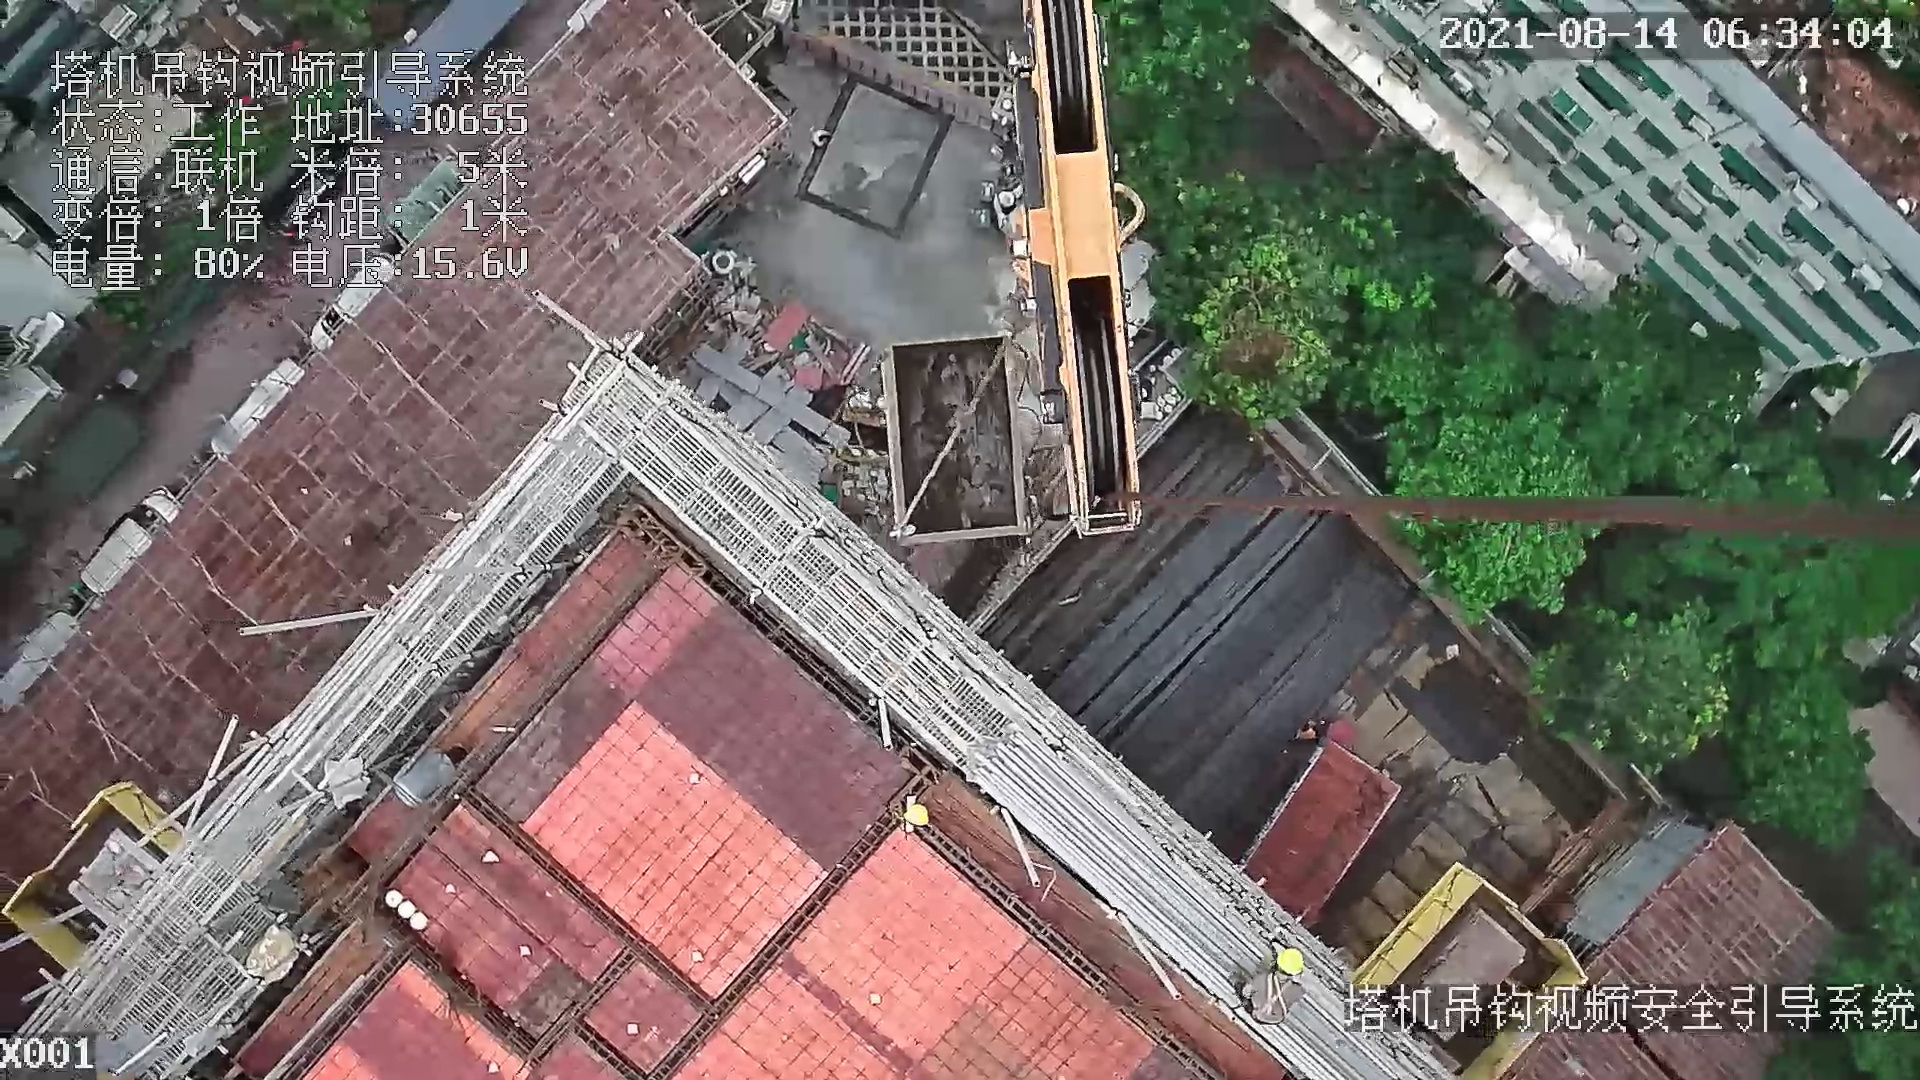helmet: (1274, 946, 1308, 976), (899, 803, 934, 828)
hook: (994, 1, 1155, 528)
hopper: (860, 315, 1046, 549)
person: (1236, 935, 1304, 1028)
rebar: (1096, 458, 1360, 827)
